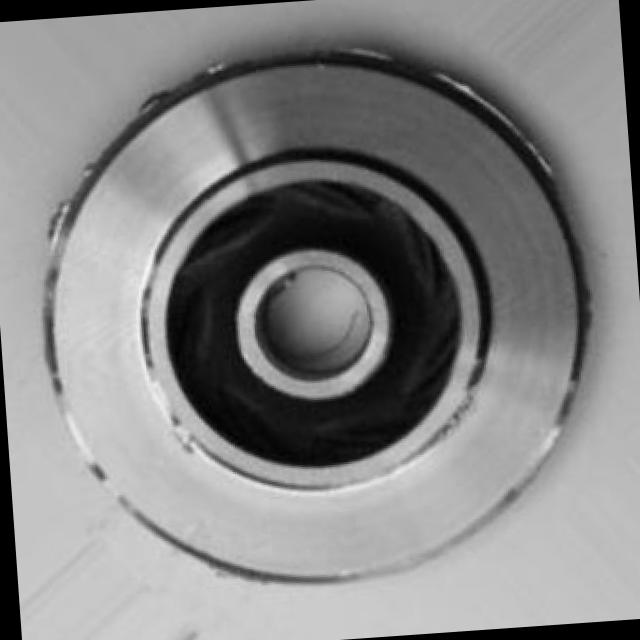Defect: (46, 196, 77, 246)
